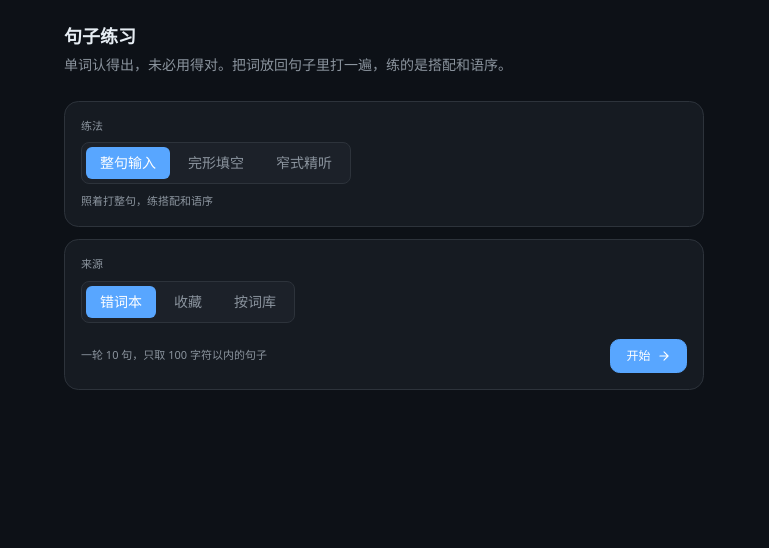
Test: SentencesPage · 完形模式 › 答错时给出正确答案与对应词条
This screenshot has width=769, height=548.
Click the button "按词库" at (255, 302), box [220,286,290,318]
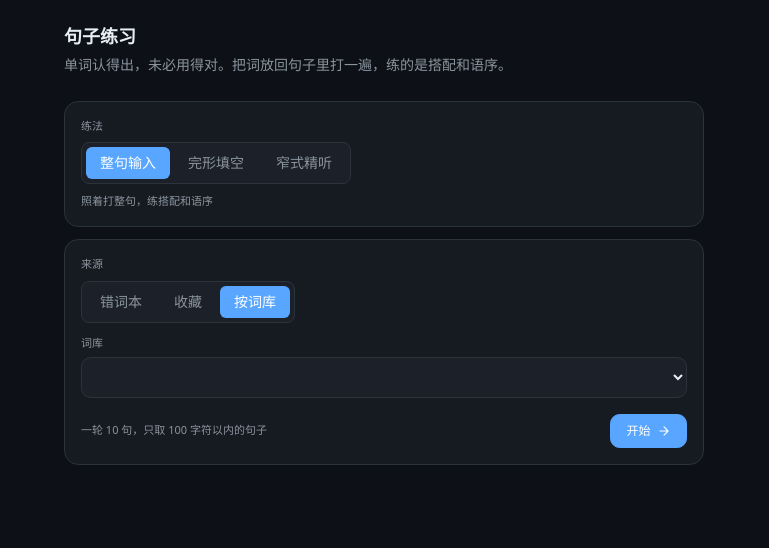
Click the button "完形填空" at (216, 163), box [174,147,258,179]
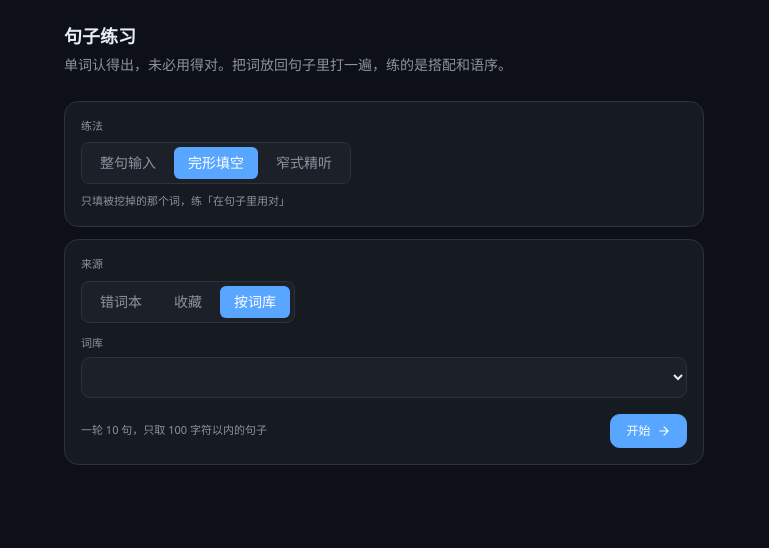
Click the button "开始" at (649, 431), box [610,414,687,448]
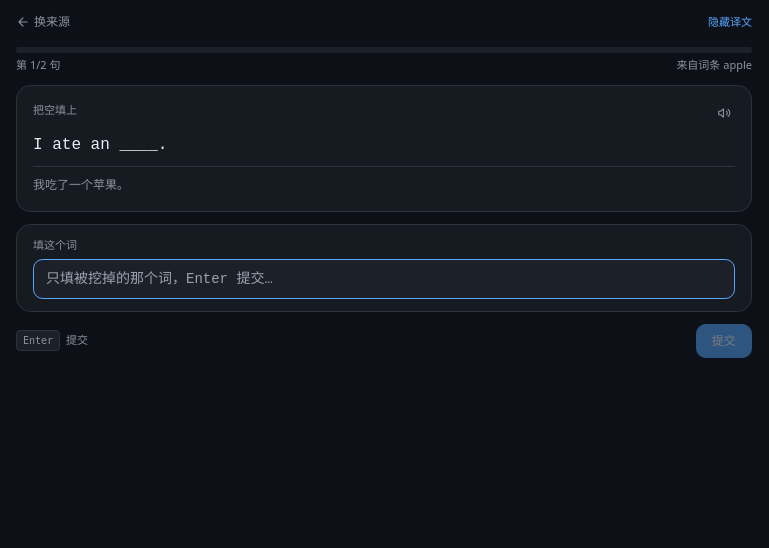
Now the text "第 1/2 句" is shown, box [16,56,60,73]
Type "zzz" into the field named "填空答案" at (384, 279), box [33,259,735,299]
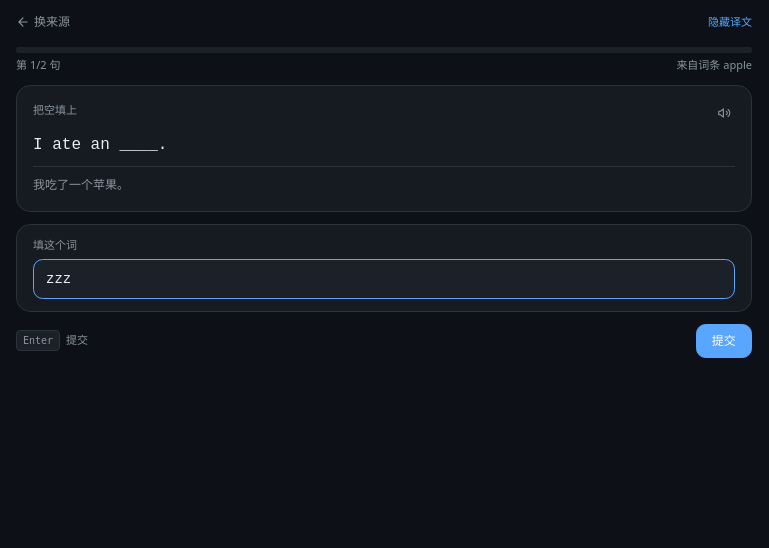
Press Enter in the field named "填空答案", box [33,259,735,299]
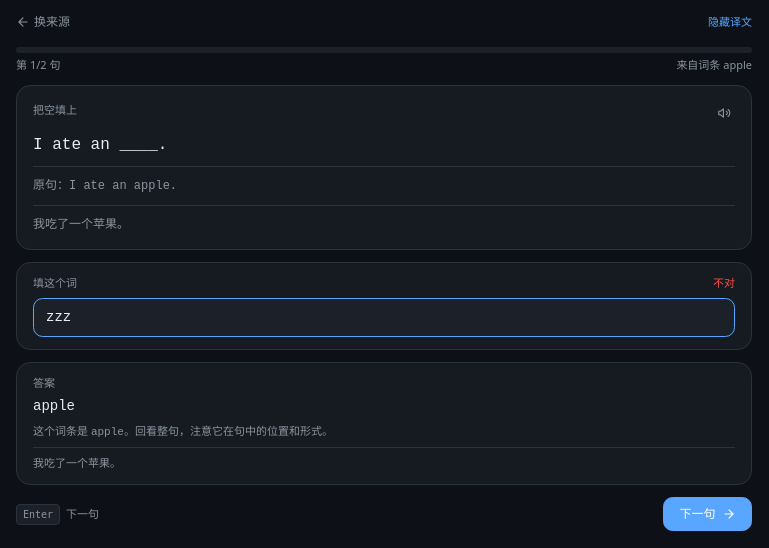
Now the text "答案" is shown, box [33,375,55,390]
Now the text "这个词条是 apple。回看整句，注意它在句中的位置和形式。" is shown, box [33,423,333,438]
